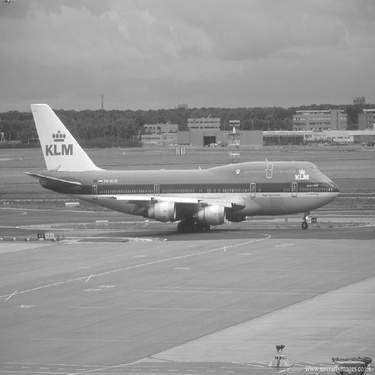airplane: (10, 79, 349, 252)
